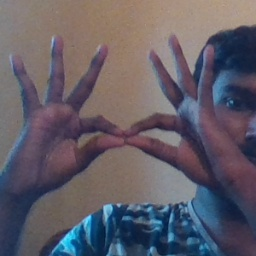B: (67, 91, 194, 174)
